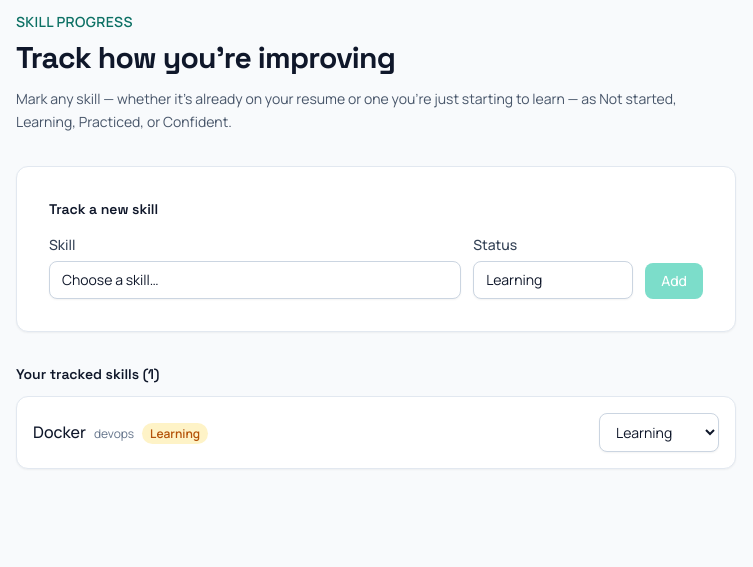
Test: SkillProgressPage › adds a new skill to track
Check: the text "Docker" is shown, box [33,421,86,443]
Select "Python" in the dropdown labelled "Skill" at (255,280), box [49,260,461,298]
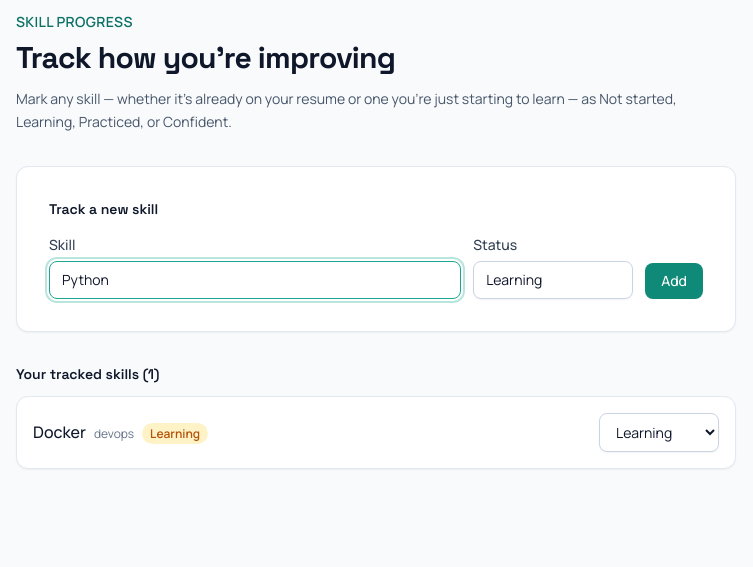
Click the button "Add".
click(674, 280)  # box [645,262,703,298]
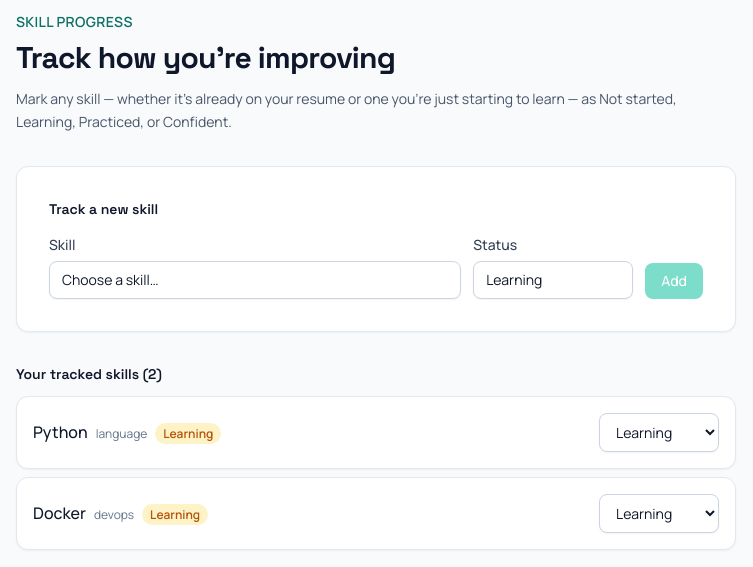
Check: the heading "Your tracked skills (2)" is shown, box [16,364,162,382]
